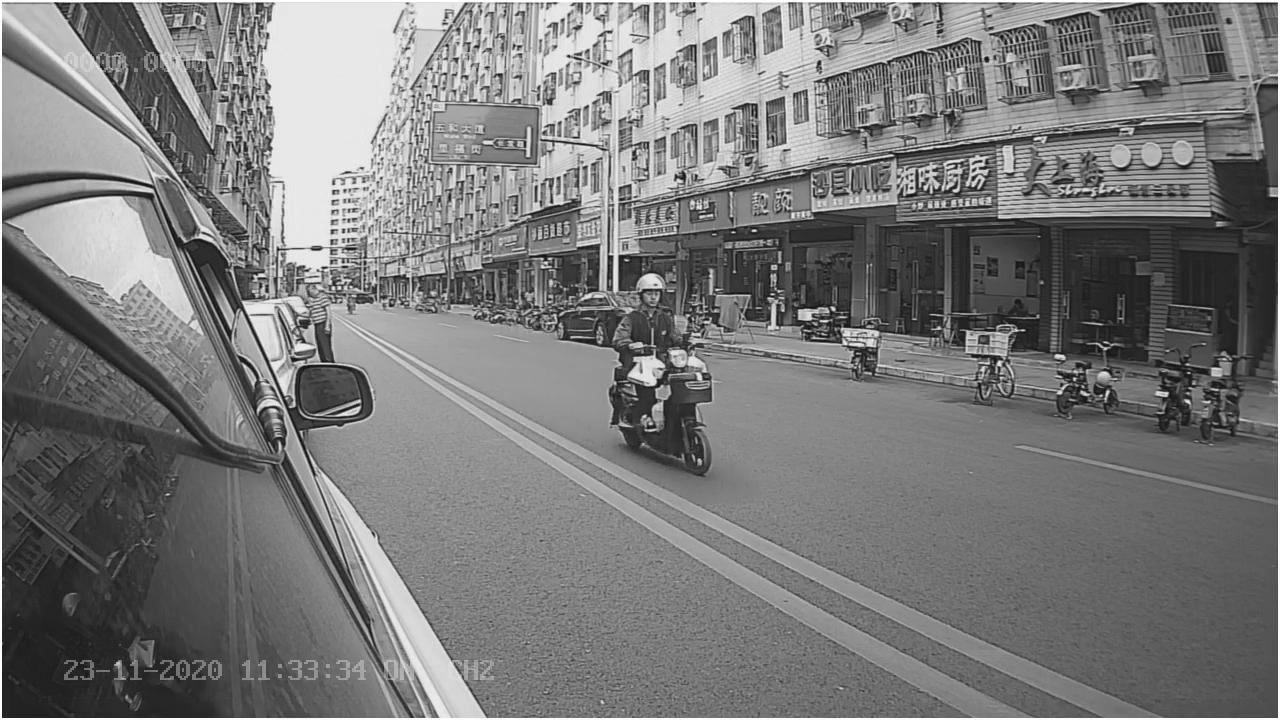person: (610, 273, 700, 354)
